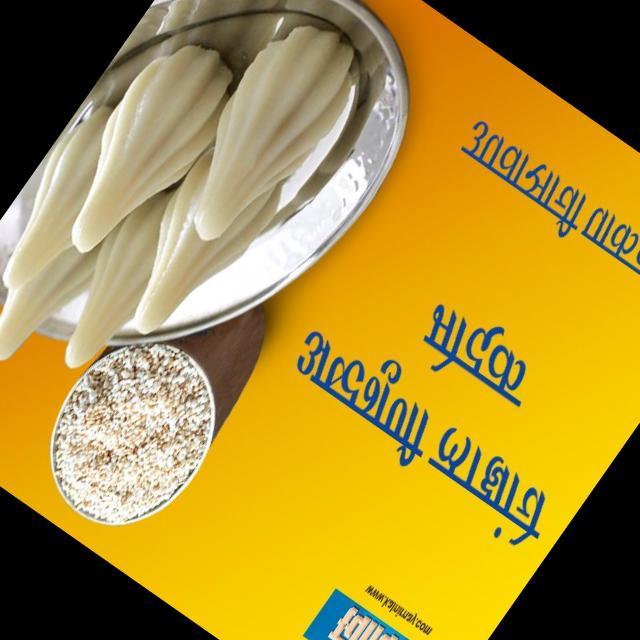modak: (7, 1, 264, 308), (132, 0, 381, 281), (78, 118, 310, 378), (0, 89, 168, 312), (33, 205, 180, 379), (0, 197, 127, 377)
